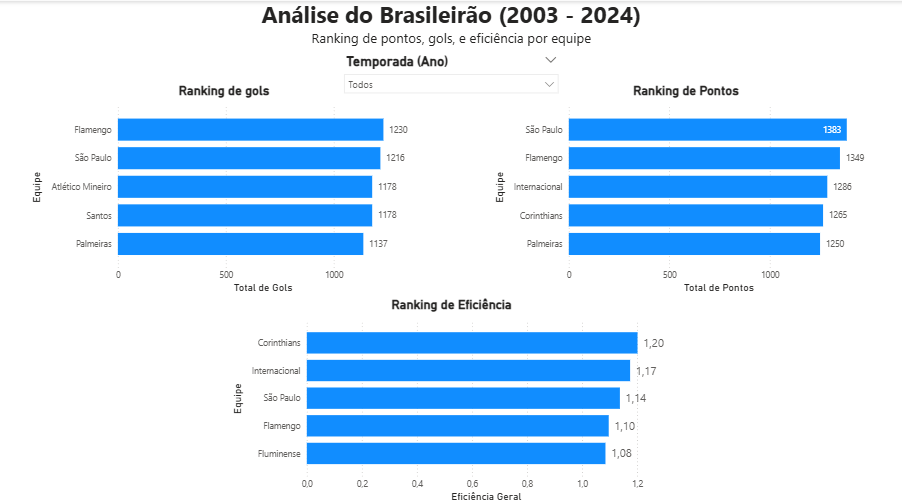

The dashboard page shown, as its layout file describes it:
{"tool":"powerbi","page":{"name":"Página 1","canvas":[1280,720],"ordinal":0},"visuals":[{"type":"barChart","title":"Ranking de Pontos","fields":{"Category":["brasileirao.team"],"Y":["brasileirao.Total de Pontos"]},"box":[683.7,169.7,552.7,302.4],"z":0},{"type":"barChart","title":"Ranking de gols","fields":{"Category":["brasileirao.team"],"Y":["brasileirao.Total de Gols"]},"box":[85.7,169.7,554.3,302.4],"z":1000},{"type":"barChart","title":"Ranking de Eficiência","fields":{"Y":["brasileirao.Eficiência Geral"],"Category":["brasileirao.Equipe"]},"box":[283.9,472,799.6,248.6],"z":2000},{"type":"textbox","box":[366.2,0,547.6,87.3],"z":3000},{"type":"slicer","fields":{"Values":["brasileirao.season"]},"box":[467,87.3,344.4,82.3],"z":4000}]}

Visuals, with their boxes in screenshot pixels (x1, y1, x2, y2), scaled from the page's 1280x720 canvas onto the 902x500 screenshot:
"Ranking de Pontos" barChart: pyautogui.locateOnScreen(482, 118, 871, 328)
"Ranking de gols" barChart: pyautogui.locateOnScreen(60, 118, 451, 328)
"Ranking de Eficiência" barChart: pyautogui.locateOnScreen(200, 328, 764, 499)
textbox: pyautogui.locateOnScreen(258, 0, 644, 61)
slicer - brasileirao.season: pyautogui.locateOnScreen(329, 61, 572, 118)
